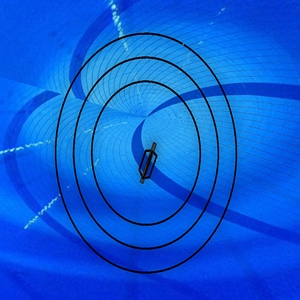circle: (52, 31, 240, 276)
submarine: (136, 140, 161, 186)
